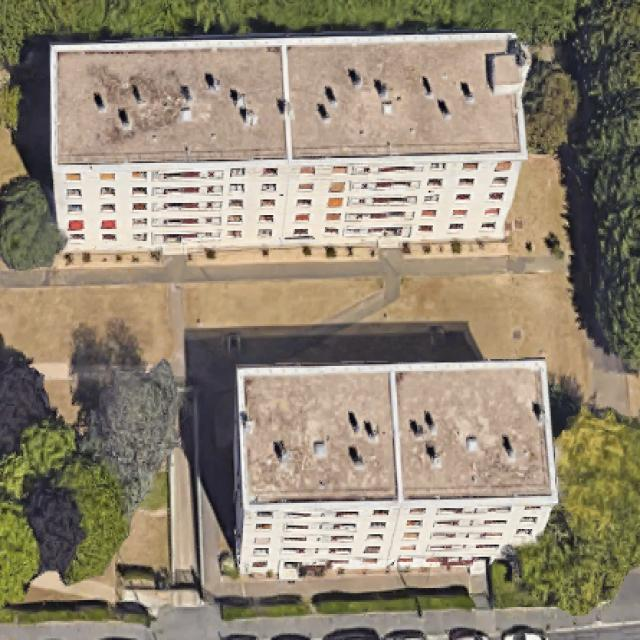immeuble: (51, 31, 532, 250), (223, 350, 560, 582)
